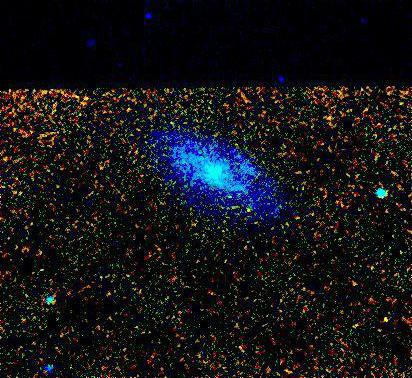star: (234, 194, 264, 224)
